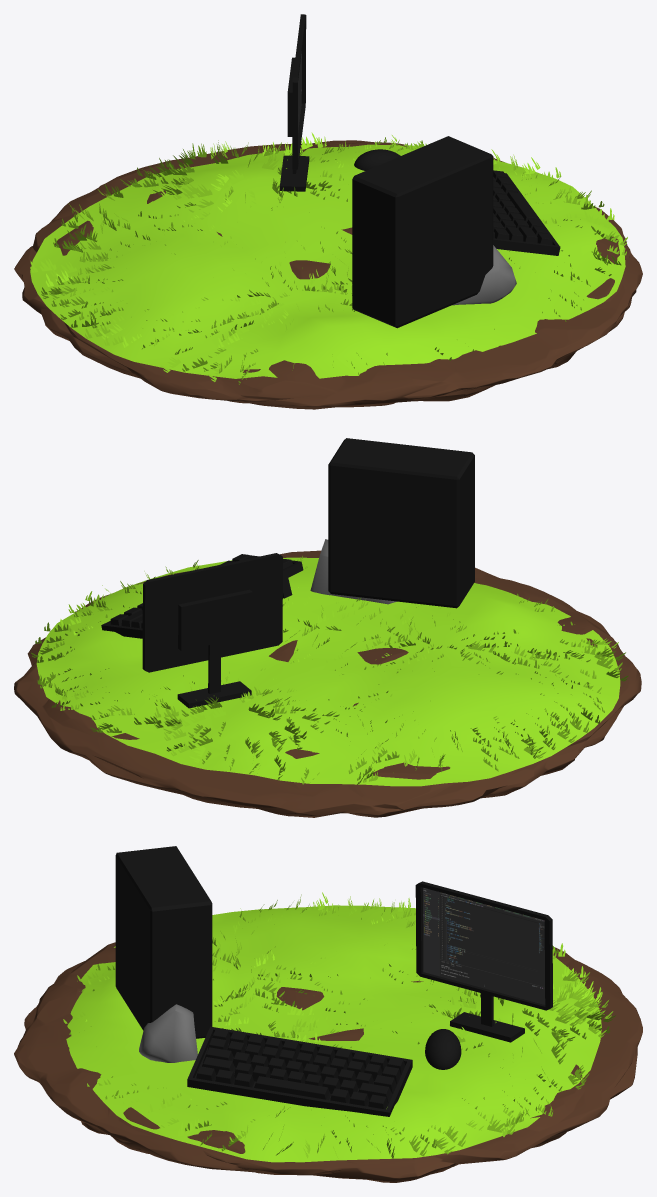
File: home.gltf
3 views of the same model, one above another, from view 1: azimuth 30°, elevation 25°; view 2: azimuth 150°, elevation 25°; view 3: azimuth 270°, elevation 25° (orthographic). The views are drawn at different scales.
Visible parts, largest first — view 1: ground, dirt, Cube.001, grass plane, Cube.008, Cube.004, Sphere, Sphere.001; view 2: ground, dirt, Cube.001, Cube.004, grass plane, Cube.008, Sphere; view 3: ground, dirt, Cube.001, Cube.004, Cube.008, grass plane, Sphere, Sphere.001.
Boxes of the visible parts, box(x1,y1,x2,y2) form: ground: box(30, 144, 625, 378); dirt: box(14, 140, 642, 409); Cube.001: box(352, 136, 493, 328); grass plane: box(30, 132, 627, 384); Cube.008: box(493, 170, 560, 255); Cube.004: box(280, 14, 309, 191); Sphere: box(452, 245, 516, 305); Sphere.001: box(354, 149, 400, 170); ground: box(36, 557, 620, 786); dirt: box(14, 550, 641, 817); Cube.001: box(328, 438, 474, 608); Cube.004: box(142, 553, 282, 708); grass plane: box(31, 556, 628, 784); Cube.008: box(101, 554, 303, 638); Sphere: box(310, 539, 396, 604); ground: box(66, 905, 601, 1162); dirt: box(14, 942, 642, 1182); Cube.001: box(115, 846, 212, 1038); Cube.004: box(415, 881, 552, 1042); Cube.008: box(187, 1026, 412, 1116); grass plane: box(63, 892, 615, 1158); Sphere: box(139, 1004, 197, 1062); Sphere.001: box(425, 1029, 461, 1069).
Bounding box in the file's own units: 11.78 × 4.41 × 11.59.
Materials: 5 (2 with a texture image).
